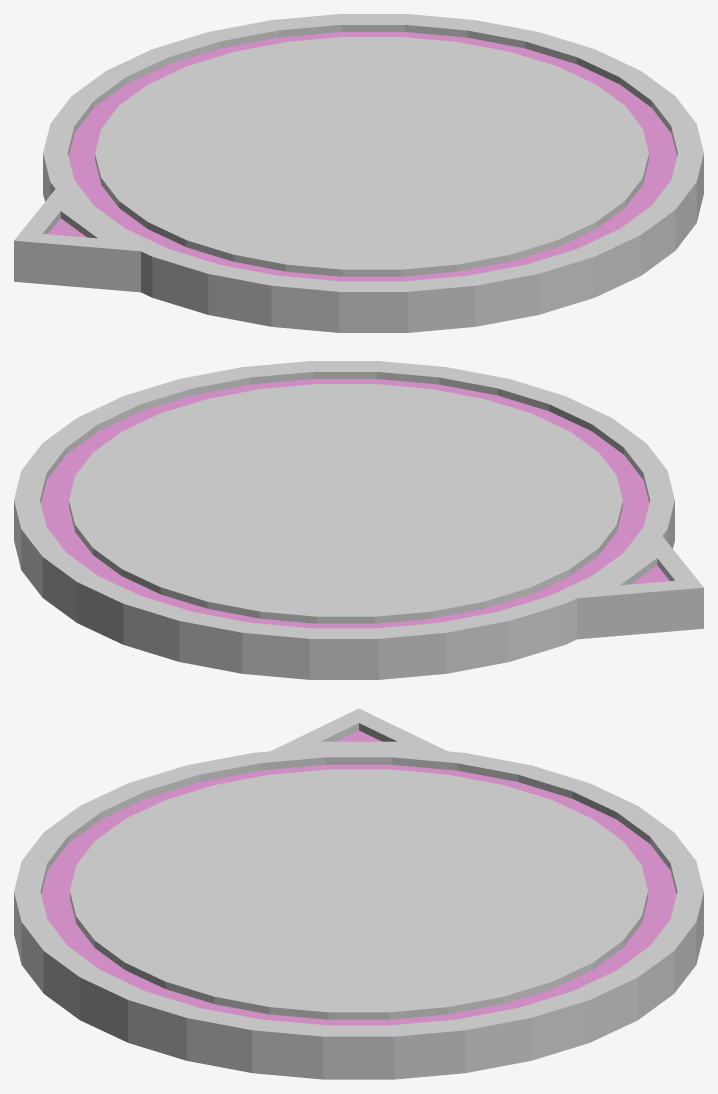
The model's file is Ring3_Bogdan.fbx.
3 renders of one model, top to bottom at view 1: azimuth 30°, elevation 25°; view 2: azimuth 150°, elevation 25°; view 3: azimuth 270°, elevation 25°, orthographic. The views are drawn at different scales.
Parts seen in each view (by area): view 1: Ring3; view 2: Ring3; view 3: Ring3.
Boxes of the visible parts, x1=… form: Ring3: x1=14, y1=14, x2=703, y2=332; Ring3: x1=14, y1=361, x2=703, y2=679; Ring3: x1=14, y1=708, x2=703, y2=1079.
Size of the model in its own units: 492 by 30 by 437.
